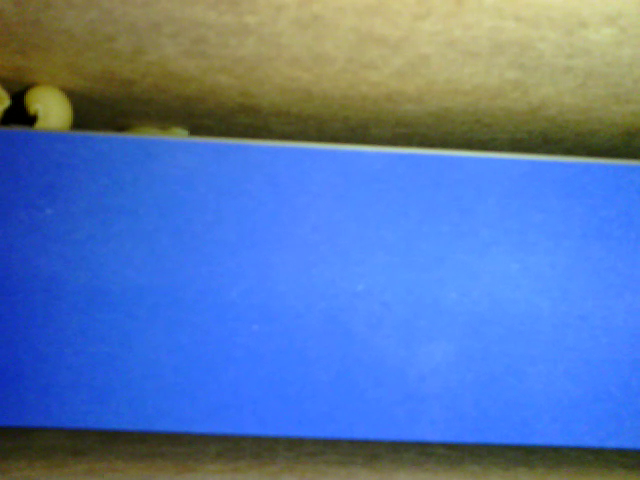shell: (23, 83, 74, 132)
